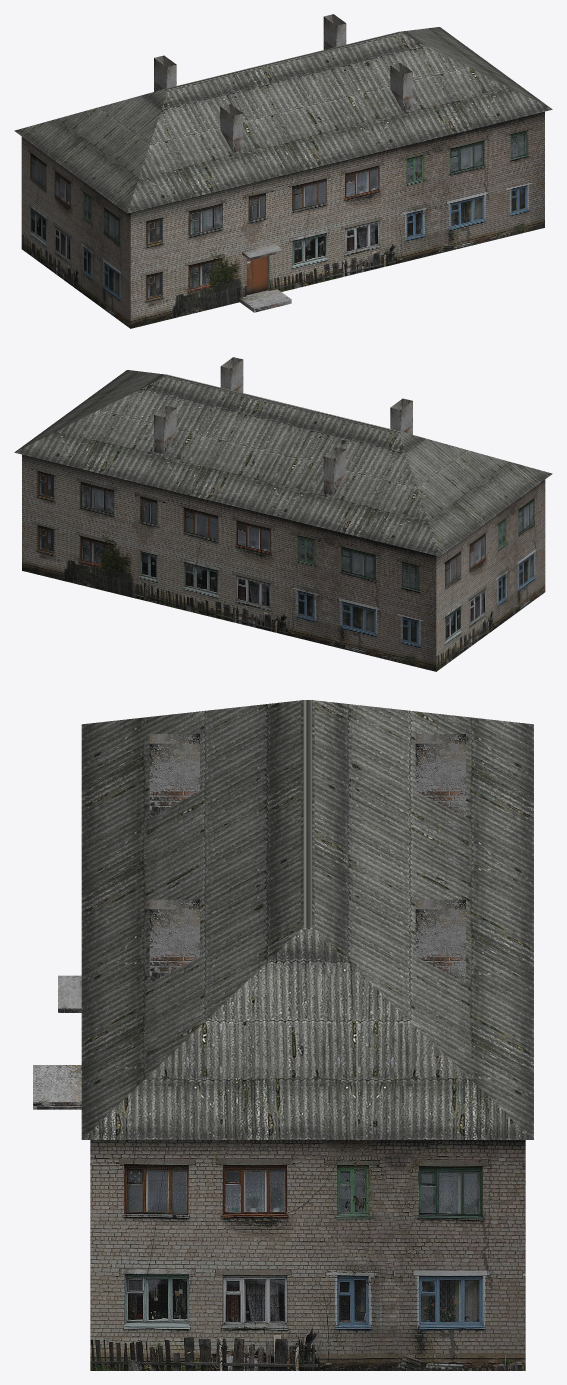
The model's file is minihouse_4.fbx.
The picture shows the model from 3 angles, top to bottom: view 1: azimuth 30°, elevation 25°; view 2: azimuth 150°, elevation 25°; view 3: azimuth 270°, elevation 25°; orthographic projection. The views are drawn at different scales.
Parts seen in each view (by area): view 1: 07303977-2501-459a-a0aa-59f275f00141; view 2: 07303977-2501-459a-a0aa-59f275f00141; view 3: 07303977-2501-459a-a0aa-59f275f00141.
Part boxes in pixels (bbox=[...]): 07303977-2501-459a-a0aa-59f275f00141: bbox=[14, 14, 552, 328]; 07303977-2501-459a-a0aa-59f275f00141: bbox=[14, 357, 552, 671]; 07303977-2501-459a-a0aa-59f275f00141: bbox=[33, 700, 533, 1370].
Bounding box in the file's own units: 21.1 × 8.4 × 10.75.
Materials: 1 (1 with a texture image).
